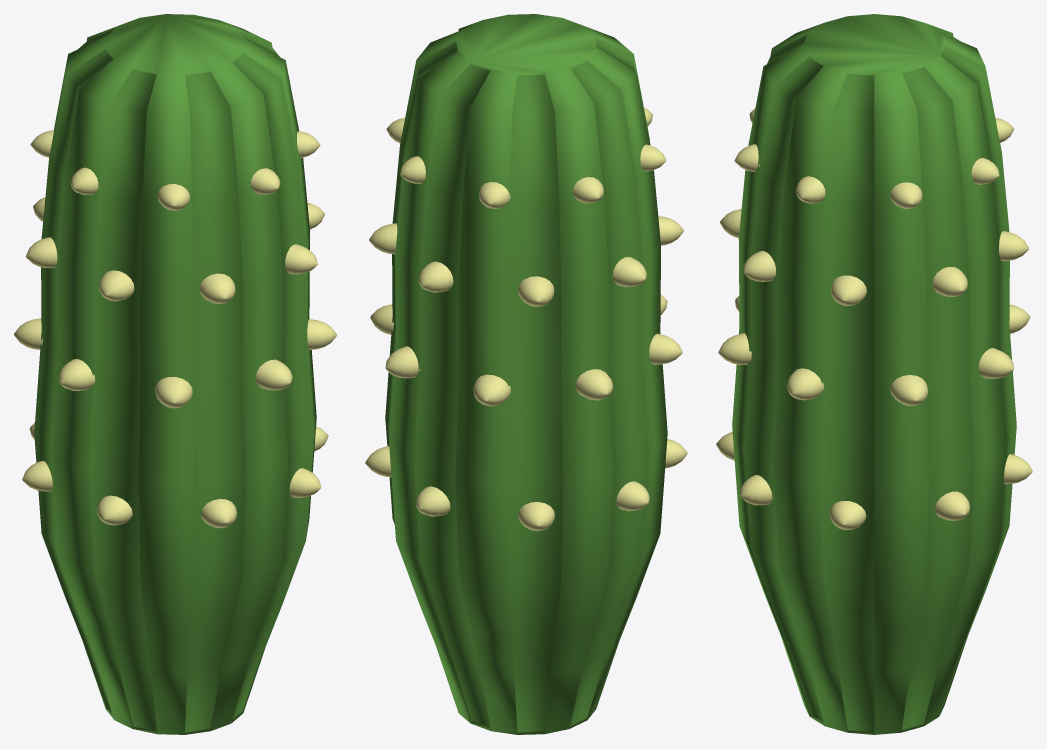
Rendered from Cactus_stage_01.fbx.
The picture shows the model from 3 angles, left to right: view 1: azimuth 30°, elevation 25°; view 2: azimuth 150°, elevation 25°; view 3: azimuth 270°, elevation 25°; orthographic projection.
Parts seen in each view (by area): view 1: stage_01; view 2: stage_01; view 3: stage_01.
Boxes of the visible parts, x1,y1,x2,y2 form: stage_01: (14,14,336,734); stage_01: (365,14,687,734); stage_01: (716,14,1032,734).
Size of the model in its own units: 51.51 by 119 by 51.45.
